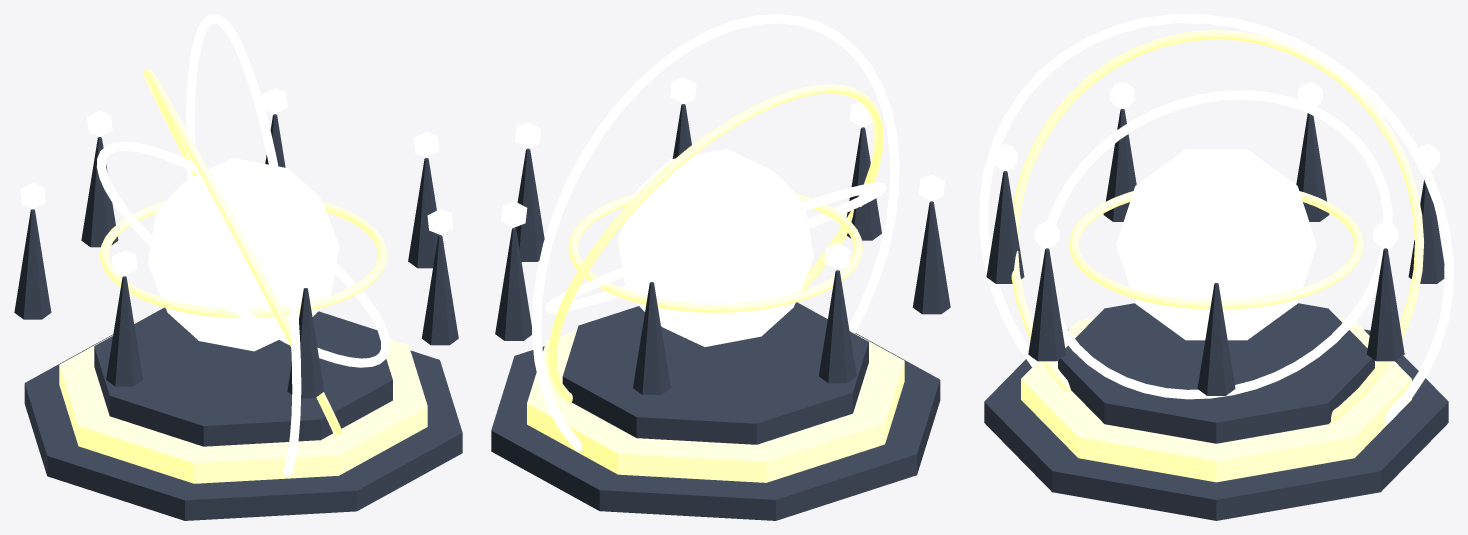
The model's file is gpu-blender-totem.glb.
3 renders of one model, left to right at view 1: azimuth 30°, elevation 25°; view 2: azimuth 150°, elevation 25°; view 3: azimuth 270°, elevation 25°, orthographic. The views are drawn at different scales.
Visible parts, largest first — view 1: Cylinder.002, SovereignCore_pod-margin-sentinel, Cylinder, Cylinder.001, Torus.003, Torus.001, Torus, Torus.002, Cone.003, Cone.006, Cone.004, Cone (+8 smaller); view 2: Cylinder.002, SovereignCore_pod-margin-sentinel, Cylinder, Cylinder.001, Torus.003, Torus.002, Torus.001, Torus, Cone.003, Cone.004, Cone.002, Cone.001 (+9 smaller); view 3: SovereignCore_pod-margin-sentinel, Cylinder.002, Cylinder, Cylinder.001, Torus.003, Torus.002, Torus.001, Torus, Cone.001, Cone.006, Cone, Cone.005 (+5 smaller).
Boxes of the visible parts, x1,y1,x2,y2 form: Cylinder.002: (94,307,392,446); SovereignCore_pod-margin-sentinel: (148,158,339,351); Cylinder: (24,334,462,520); Cylinder.001: (59,315,427,483); Torus.003: (186,14,301,476); Torus.001: (96,141,390,367); Torus: (100,201,387,317); Torus.002: (143,68,342,435); Cone.003: (14,209,51,319); Cone.006: (421,235,458,345); Cone.004: (106,276,142,386); Cone: (408,158,440,268); Cylinder.002: (562,302,868,444); SovereignCore_pod-margin-sentinel: (617,149,813,346); Cylinder: (491,333,940,520); Cylinder.001: (527,310,904,482); Torus.003: (532,14,899,452); Torus.002: (547,84,883,403); Torus.001: (545,182,885,313); Torus: (568,193,862,312); Cone.003: (819,270,856,383); Cone.004: (912,201,950,314); Cone.002: (633,282,670,394); Cone.001: (495,228,531,340); SovereignCore_pod-margin-sentinel: (1116,149,1316,340); Cylinder.002: (1058,303,1374,443); Cylinder: (984,329,1448,520); Cylinder.001: (1021,317,1411,482); Torus.003: (979,14,1453,424); Torus.002: (1011,30,1423,422); Torus.001: (1040,90,1392,399); Torus: (1069,191,1363,309); Cone.001: (1366,248,1404,361); Cone.006: (1028,248,1066,361); Cone: (1197,283,1235,395); Cone.005: (986,171,1024,283).
Size of the model in its own units: 4.41 by 4.7 by 4.49.
